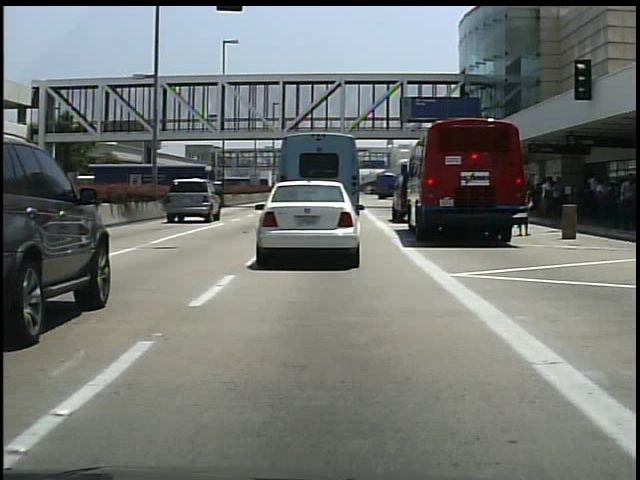person: (519, 187, 533, 238)
